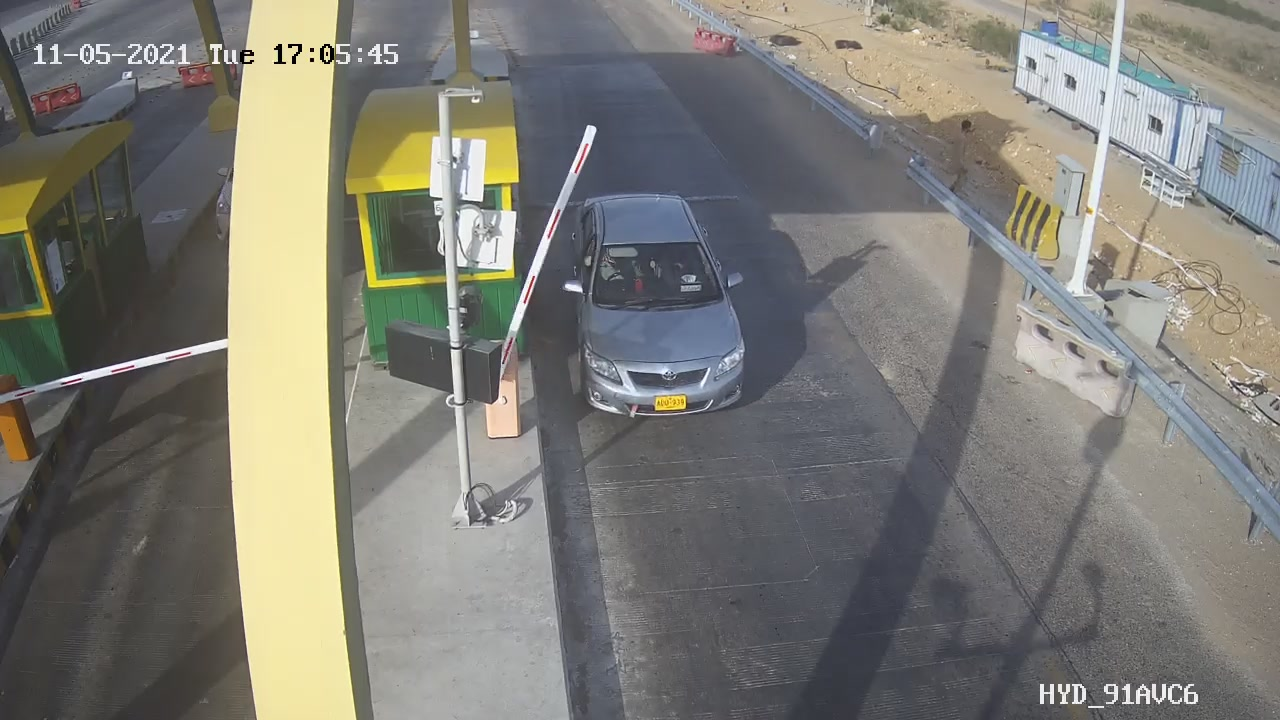F1: (546, 177, 772, 438)
